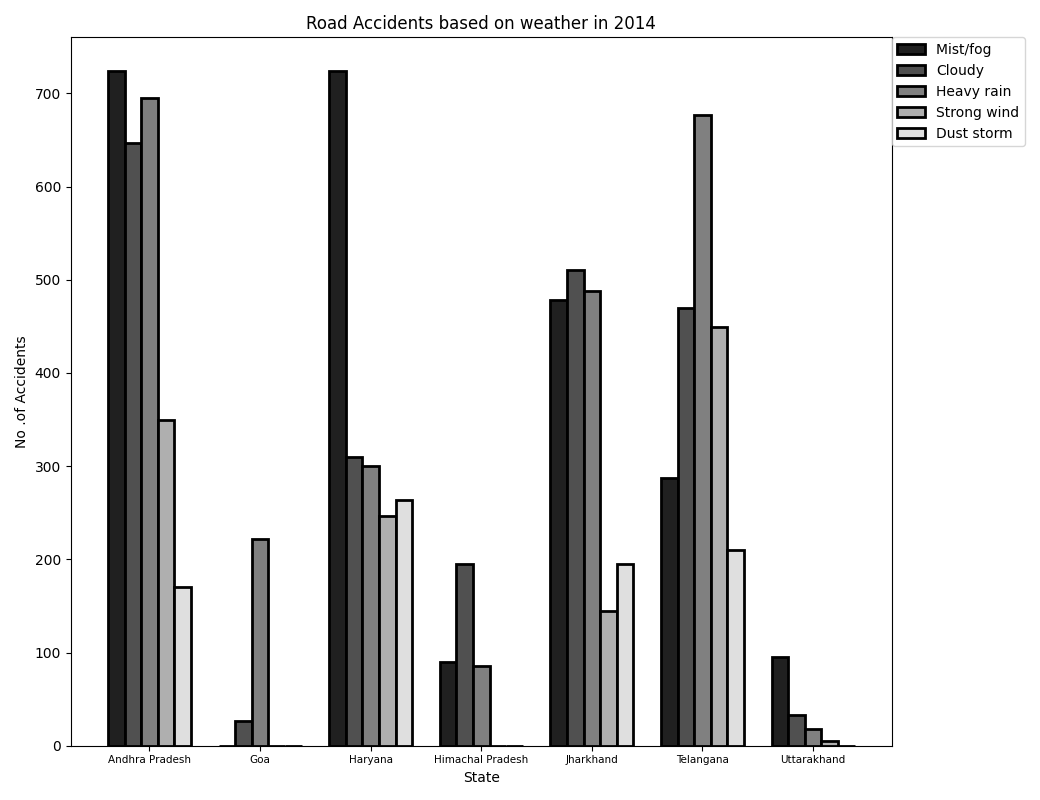canvas: (89, 55, 877, 748)
legend: (895, 39, 1020, 144)
title: (289, 8, 666, 34)
x-axis: (63, 741, 902, 753)
x-labels: (91, 752, 853, 768)
x-title: (432, 767, 526, 789)
y-axis: (64, 20, 76, 755)
y-labels: (32, 65, 65, 759)
y-title: (5, 325, 30, 458)
